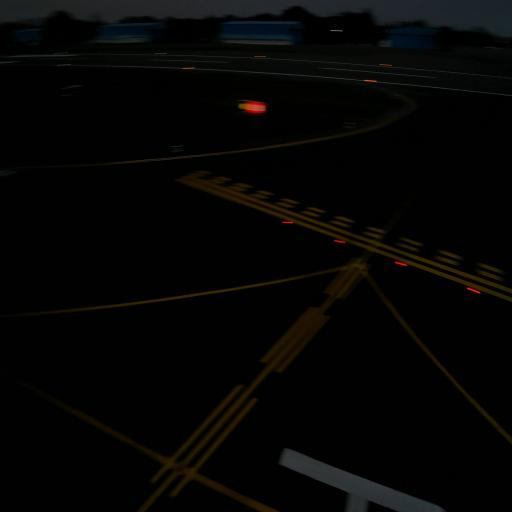on: (391, 254, 410, 277), (465, 278, 483, 302), (280, 213, 296, 233), (333, 232, 348, 249)
